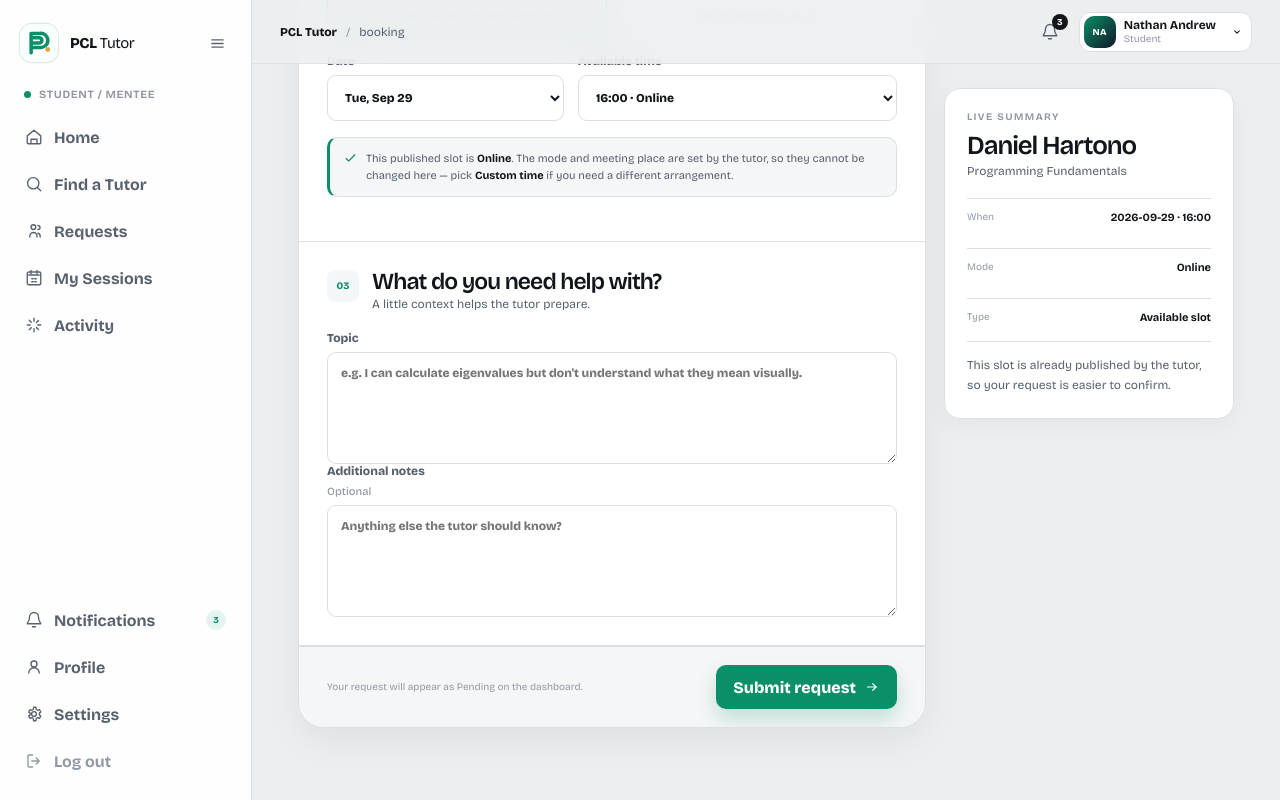
Scenario: booking a published slot › does not send the request when Enter is pressed in the topic field
(page scrolled)
Type "Sorting complexity" into the text box labelled "Topic" at (612, 408), box [327,352,897,464]
Then press Enter
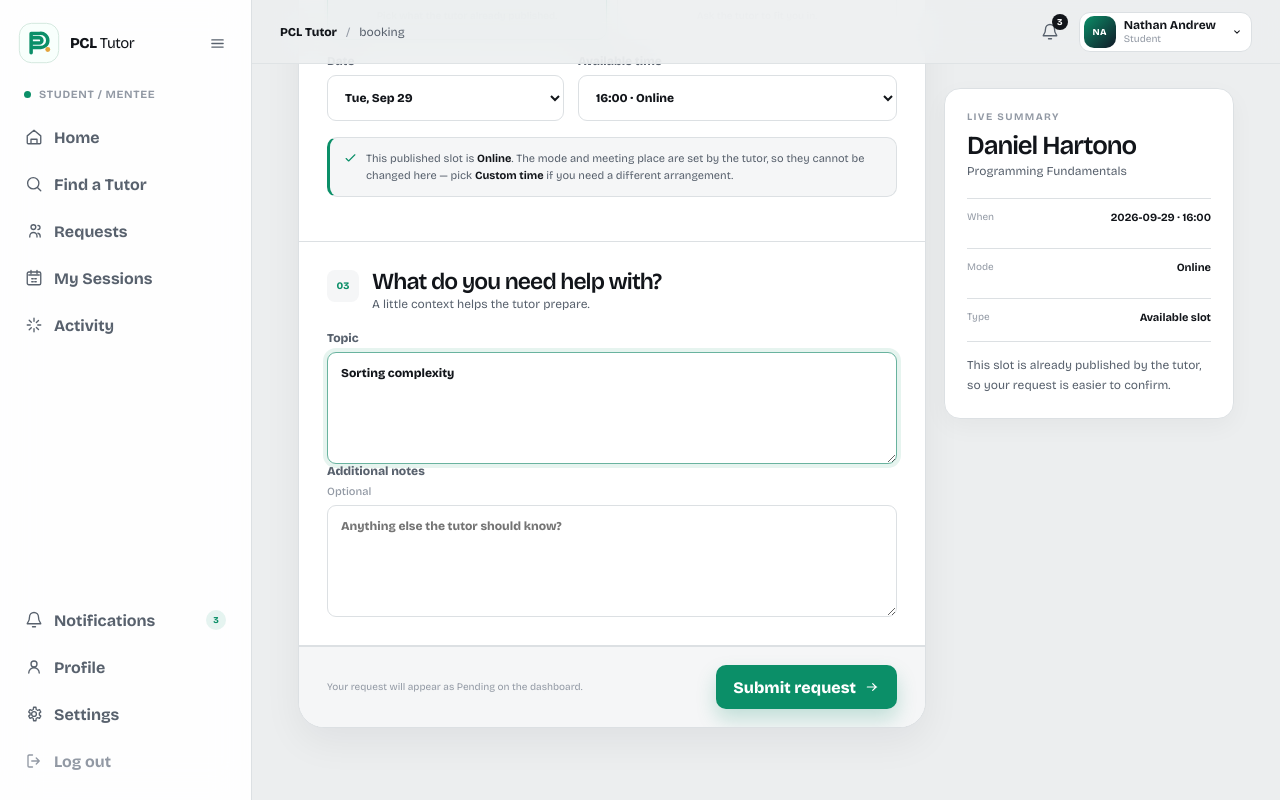
Check: the text "You're on the tutor's radar" is not shown
Click the button "Submit request" at (807, 687), box [716,665,897,709]
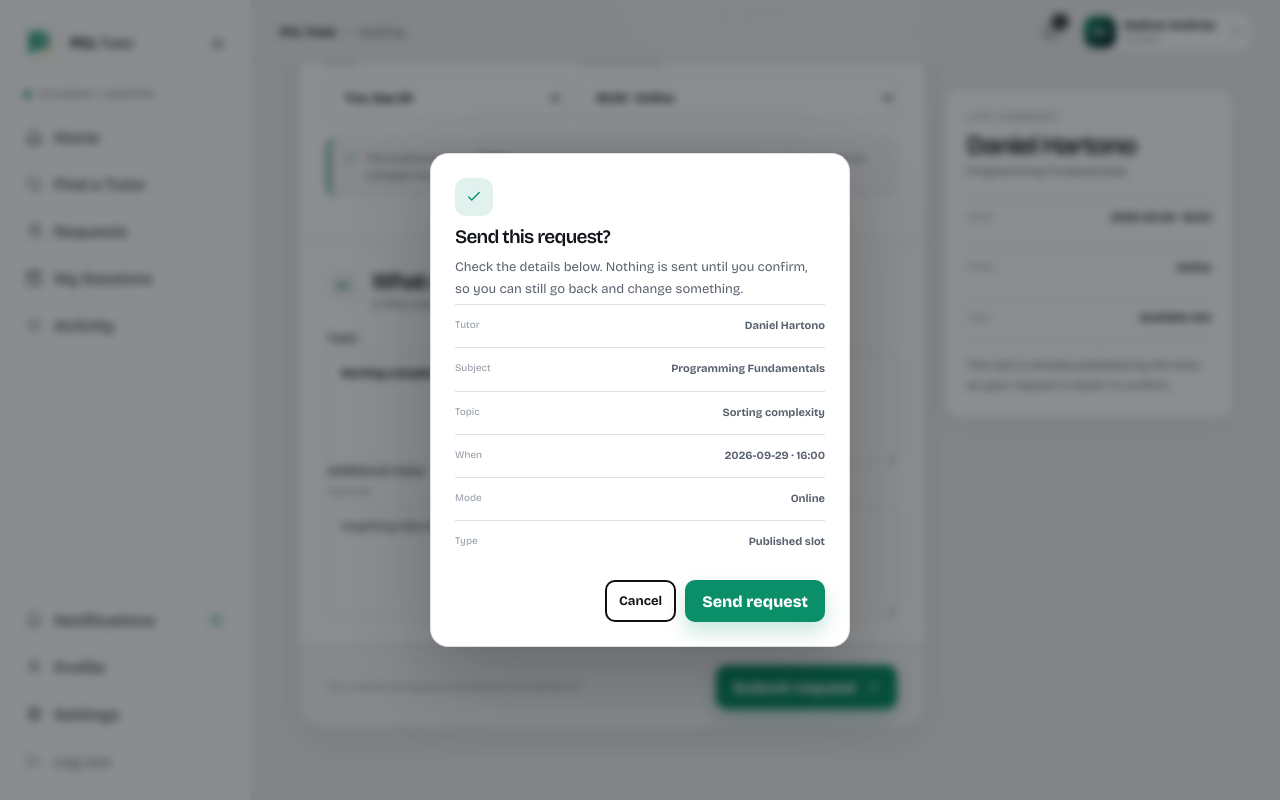
Check: the text "You're on the tutor's radar" is not shown
Check: the dialog is shown, box [430,153,850,647]
Click the button "Send request" at (755, 601), box [685,580,825,622]
(page scrolled)
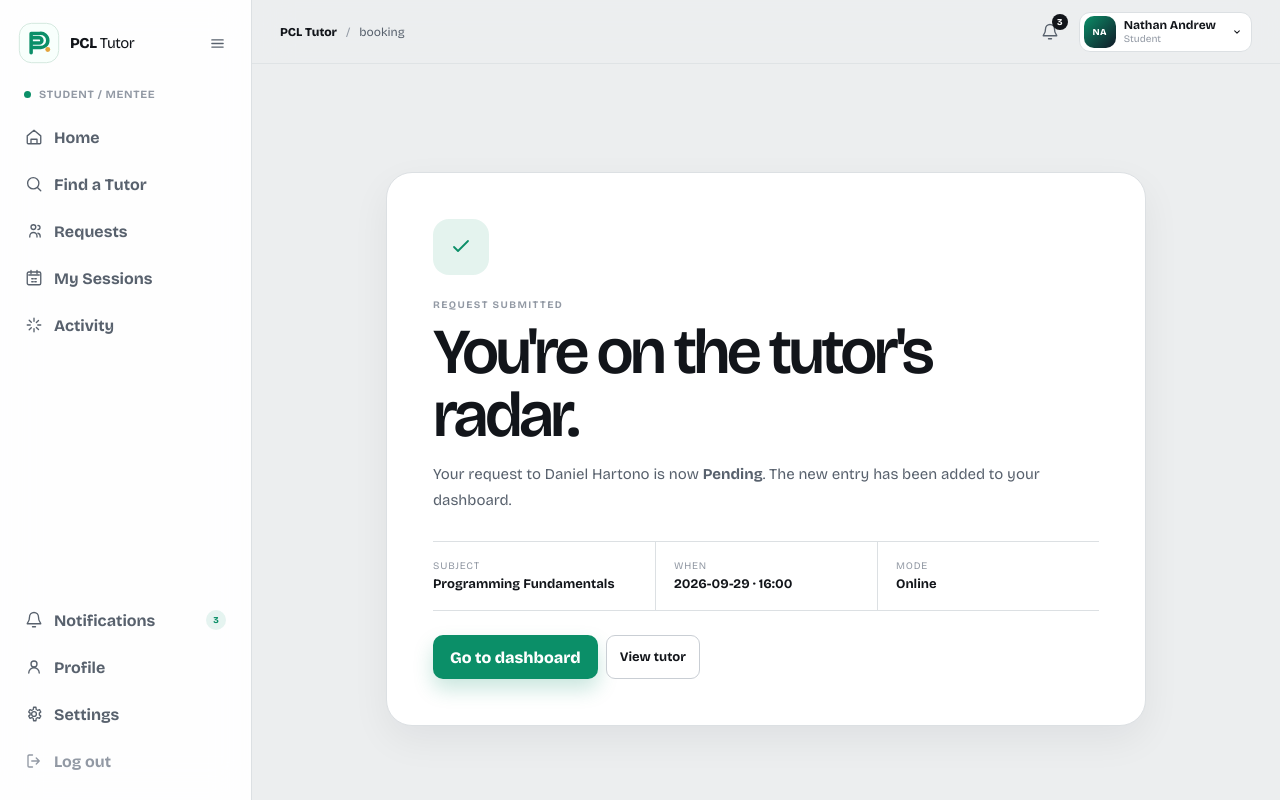
Check: the heading "You're on the tutor's radar." is shown, box [433,313,931,453]
